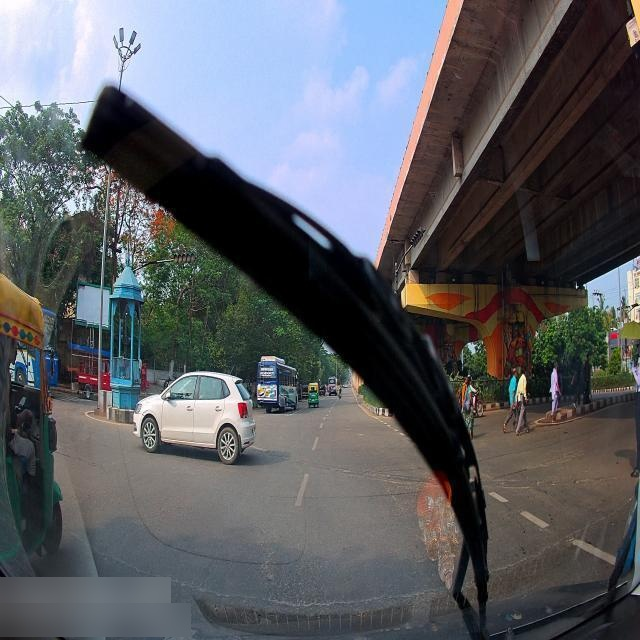pothole: (279, 450, 293, 465), (264, 446, 276, 458), (342, 468, 350, 478), (366, 472, 378, 477), (388, 478, 400, 483), (328, 466, 336, 472), (382, 471, 389, 477)
